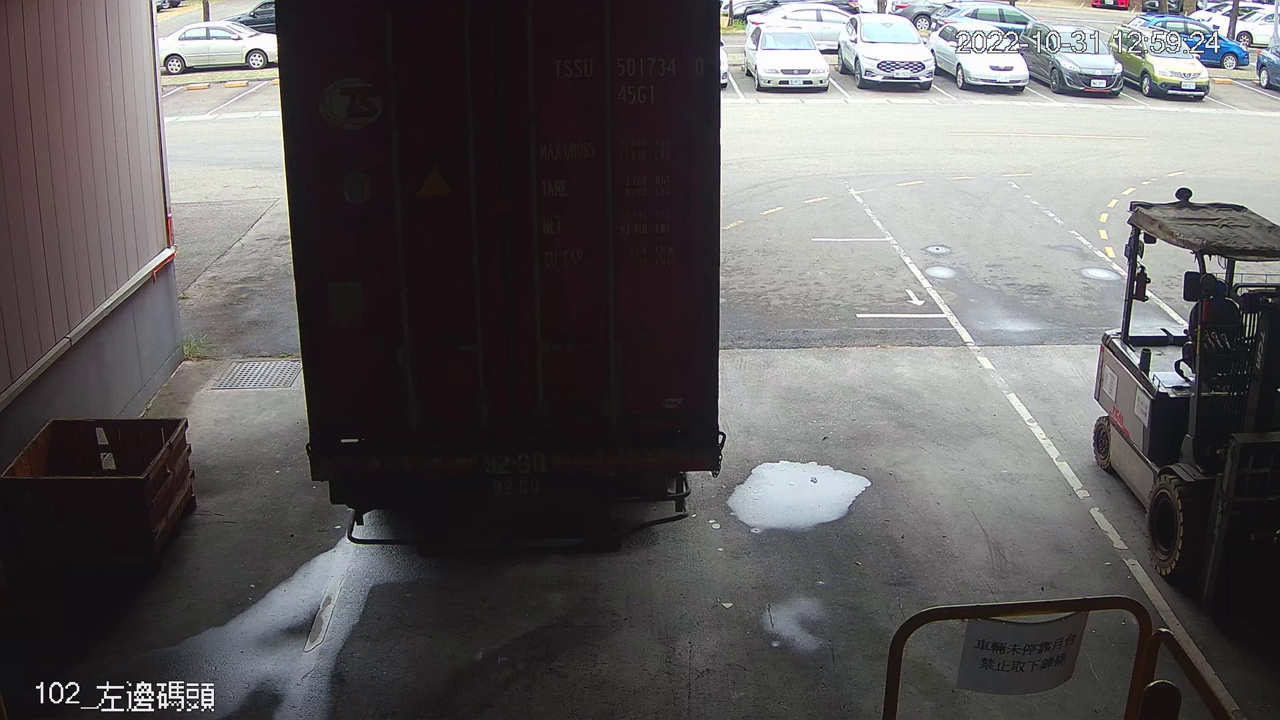container: (543, 49, 713, 111)
